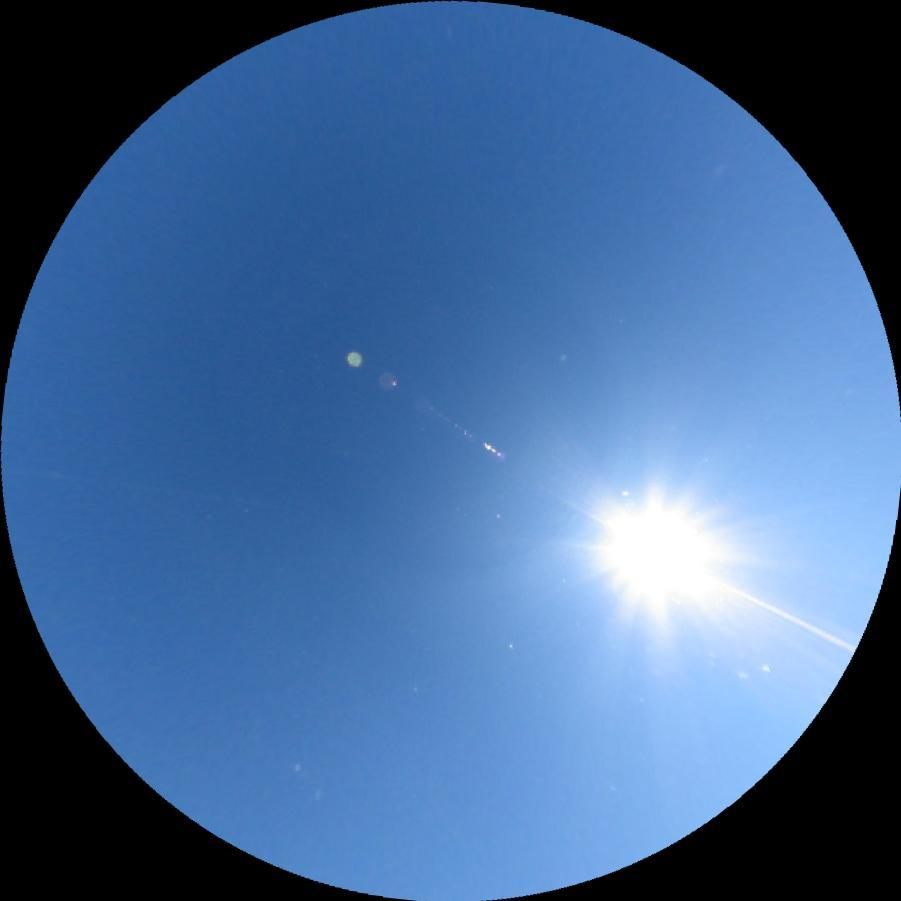parasite: (720, 580, 856, 652)
sun: (574, 465, 742, 641)
